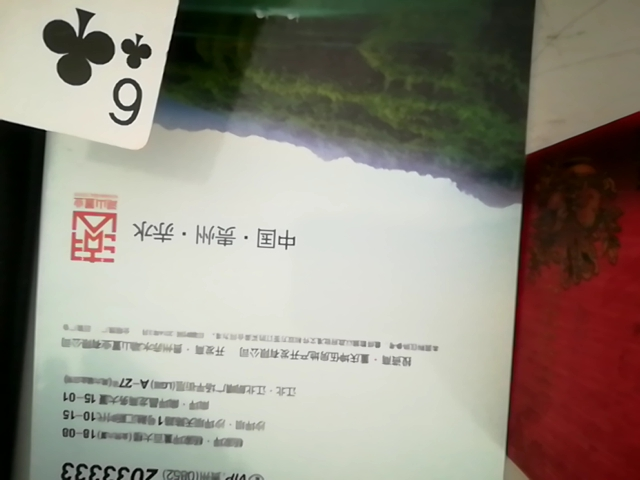mh 6: (6, 0, 265, 155)
